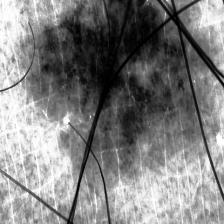Benign Marking or Mole: (48, 0, 189, 152)
